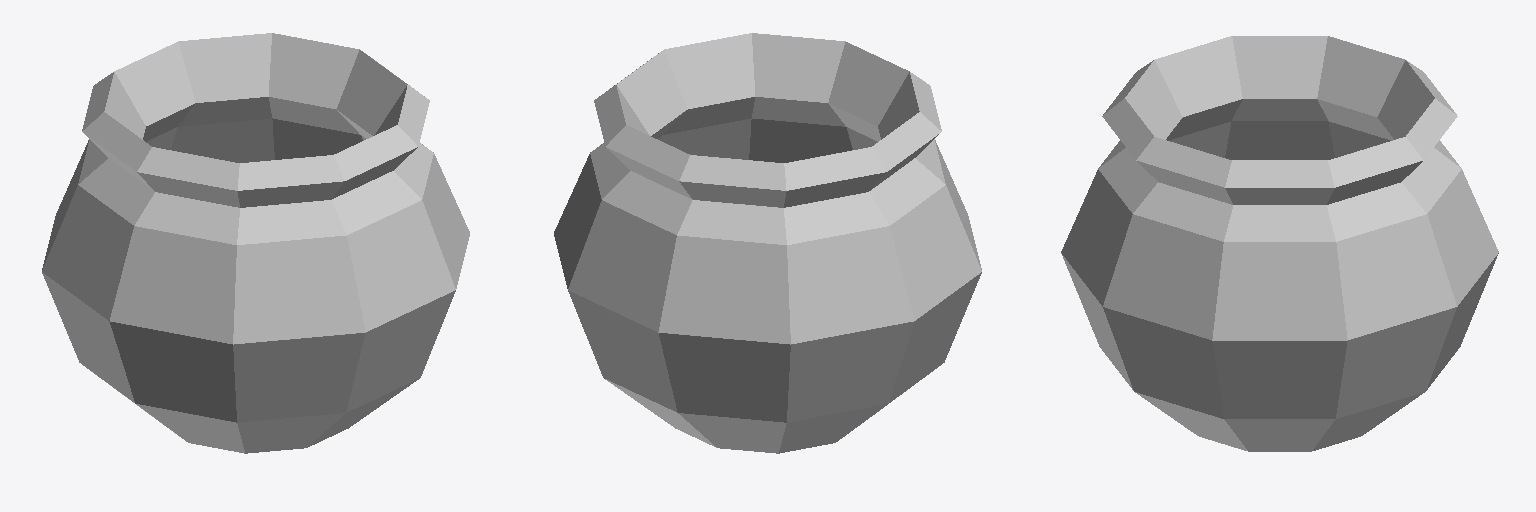
File: Cauldron01.obj
The picture shows the model from 3 angles: view 1: azimuth 30°, elevation 25°; view 2: azimuth 150°, elevation 25°; view 3: azimuth 270°, elevation 25°; orthographic projection.
Visible parts, largest first — view 1: Cauldron01_Sphere.002; view 2: Cauldron01_Sphere.002; view 3: Cauldron01_Sphere.002.
Boxes of the visible parts, x1,y1,x2,y2 form: Cauldron01_Sphere.002: [42, 33, 469, 453]; Cauldron01_Sphere.002: [554, 33, 981, 453]; Cauldron01_Sphere.002: [1061, 36, 1498, 451].
Size of the model in its own units: 2.06 by 1.72 by 2.17.